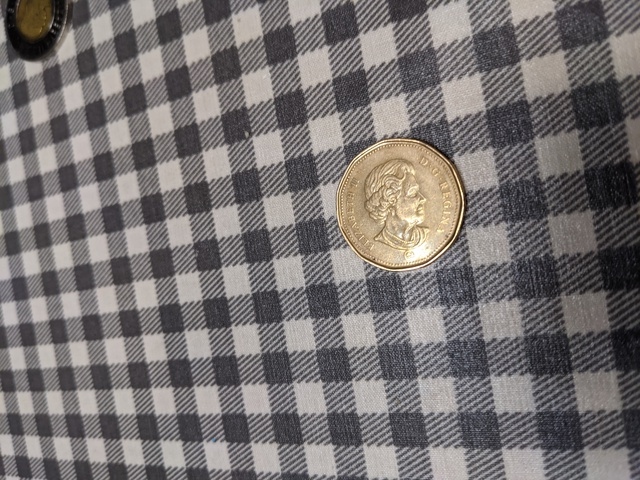loonie: (331, 133, 472, 274)
